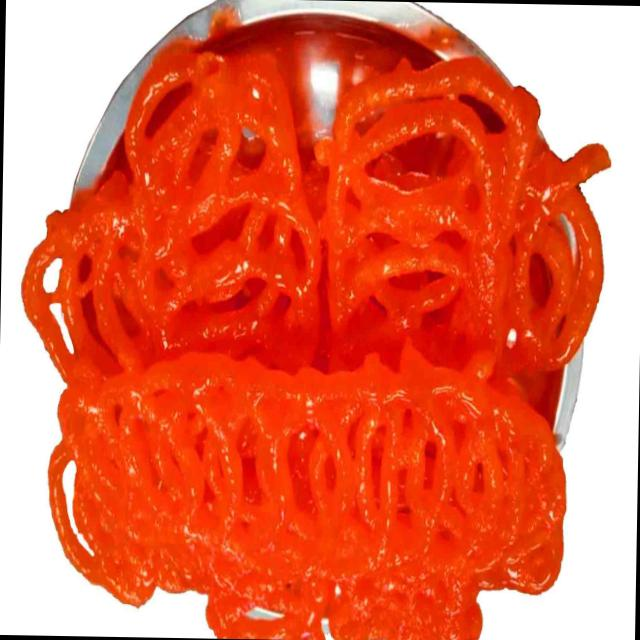jalebi: (9, 25, 605, 636)
